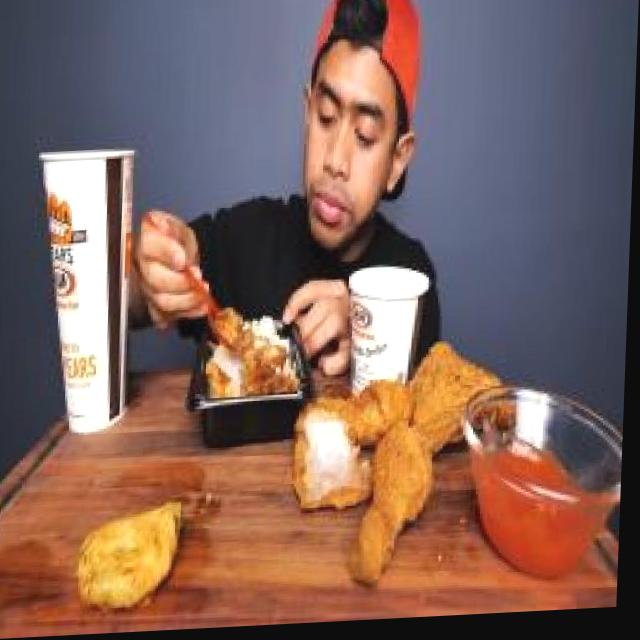AW cola: (22, 124, 146, 457)
black pepper rice bowl: (204, 285, 306, 444)
crispy corn: (348, 258, 450, 410)
fried chicken: (293, 334, 508, 580)
perkedel: (67, 481, 196, 632)
